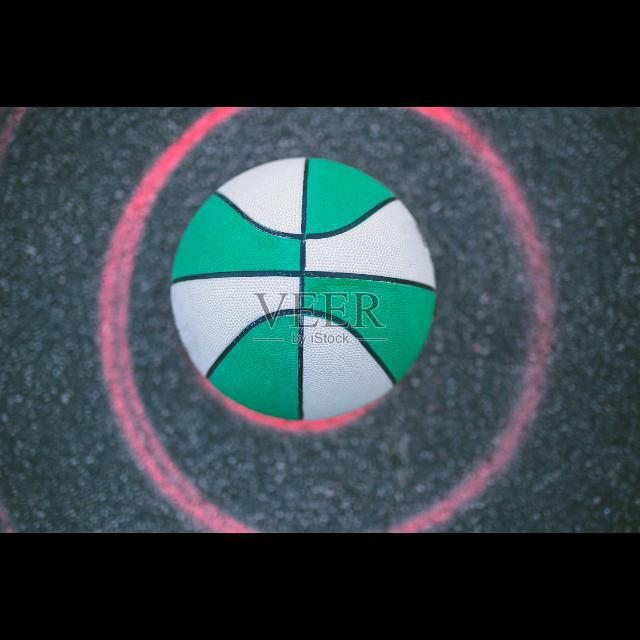basketball: (171, 158, 435, 422)
